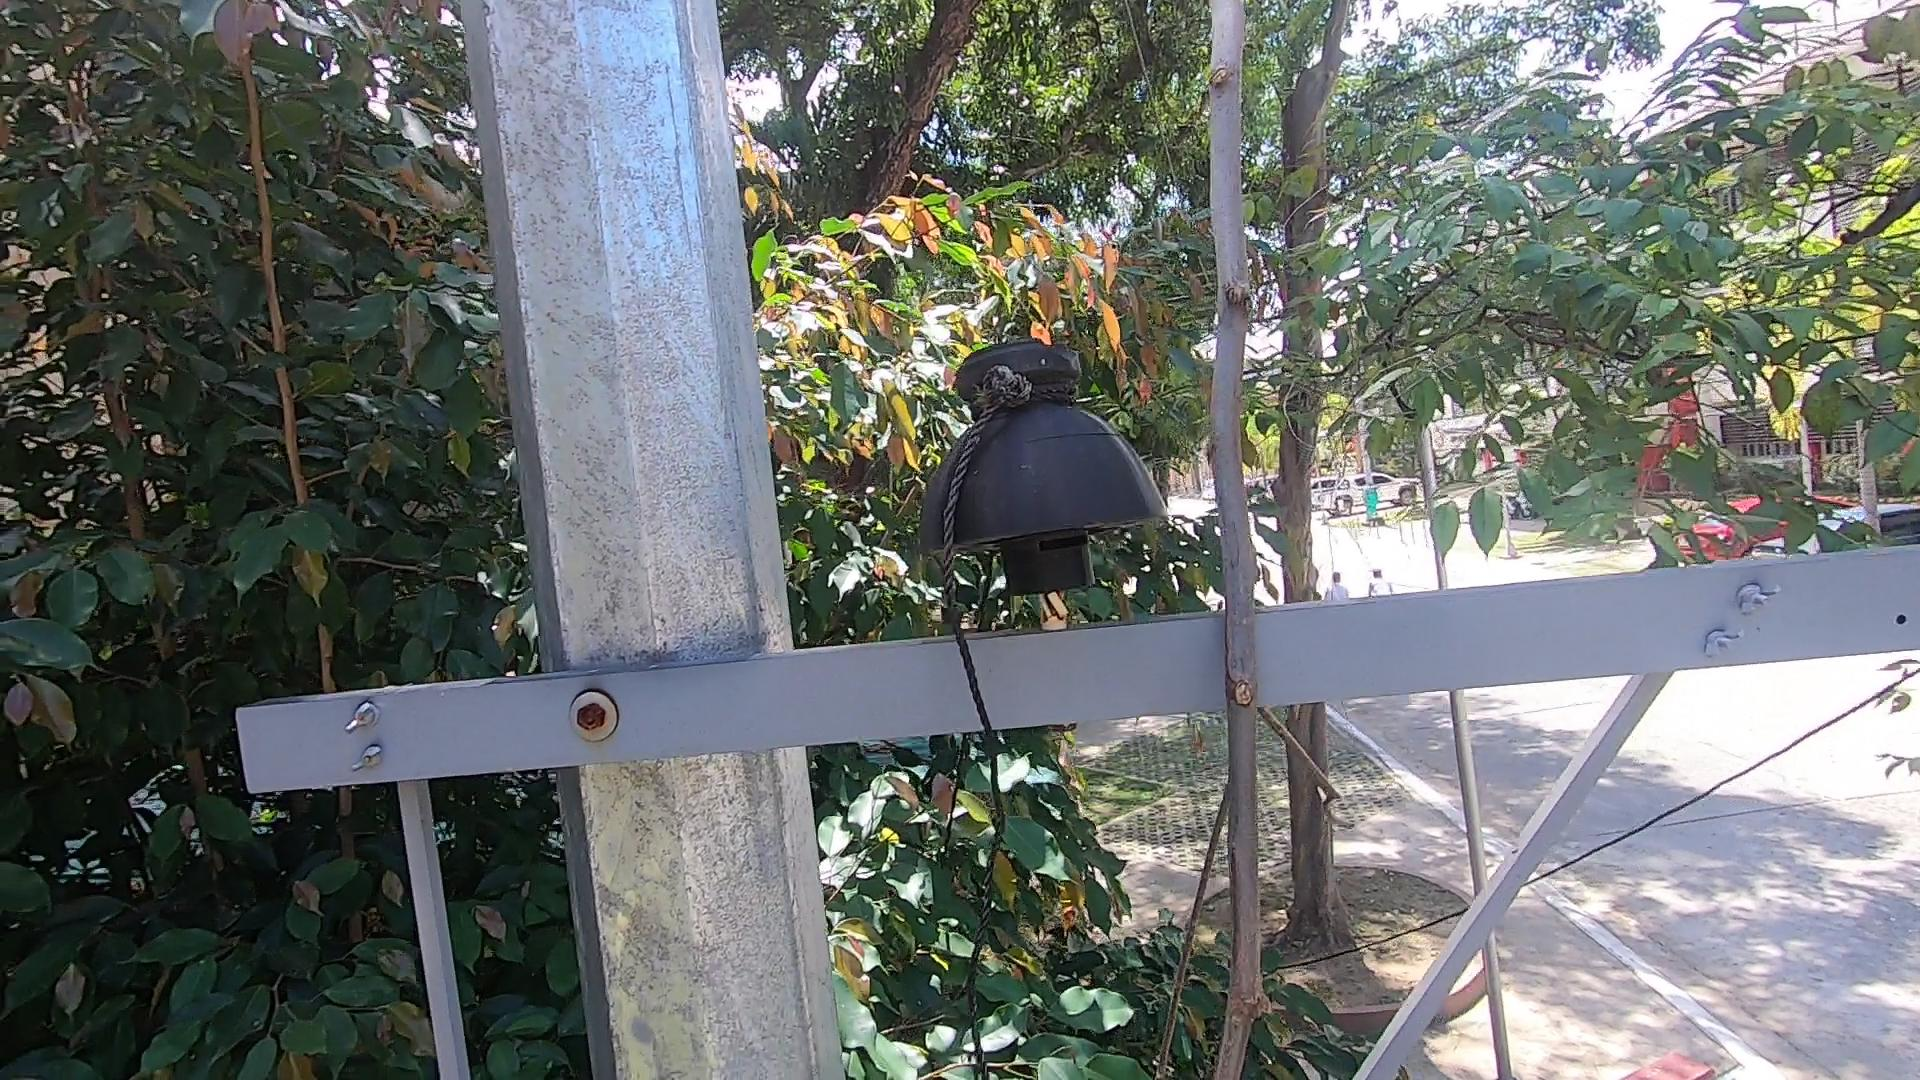tree branch: (1110, 11, 1373, 1080)
